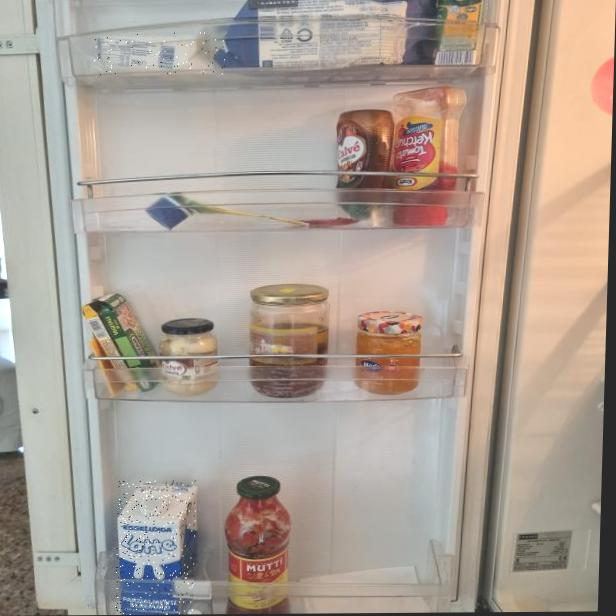butter: (94, 32, 226, 75)
milk: (115, 480, 197, 615)
